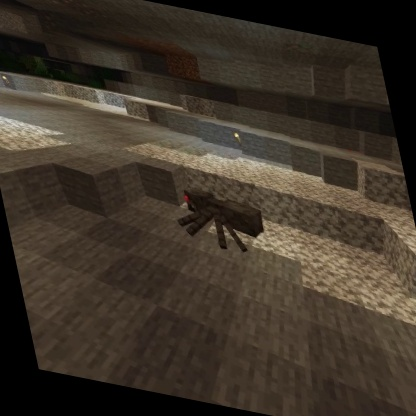spider: (165, 179, 275, 262)
